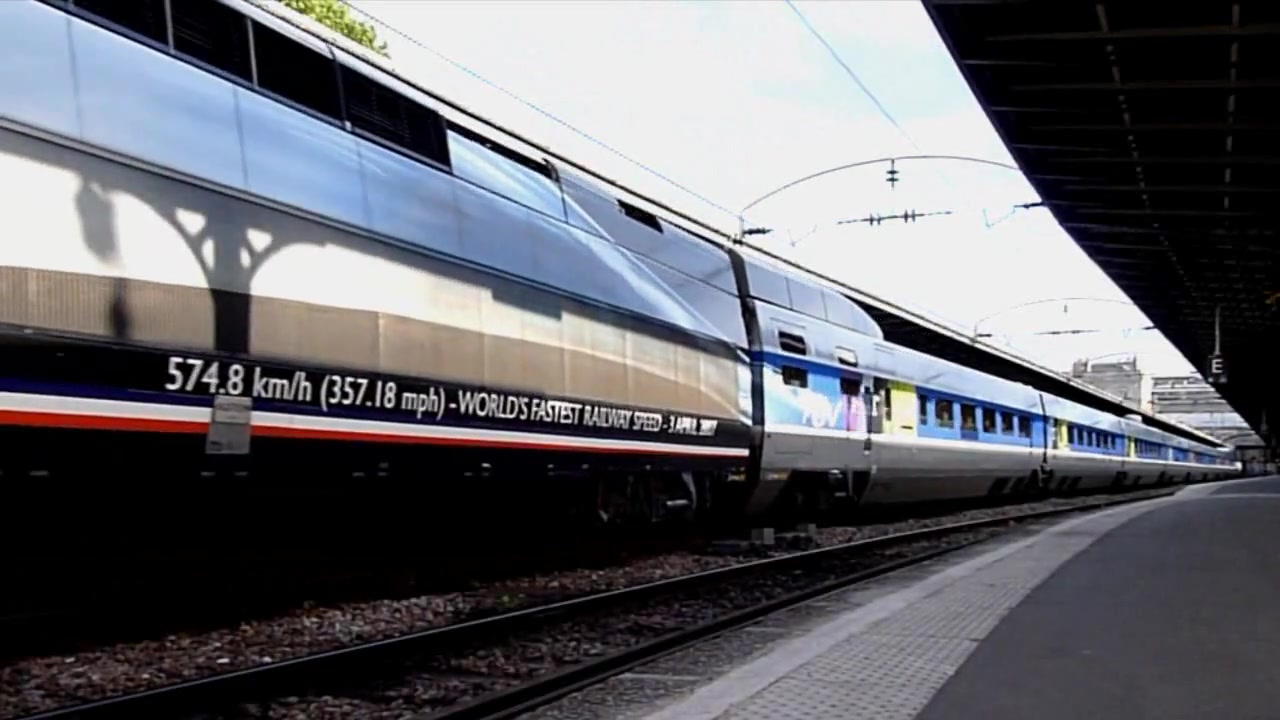train: (1, 1, 1240, 617)
